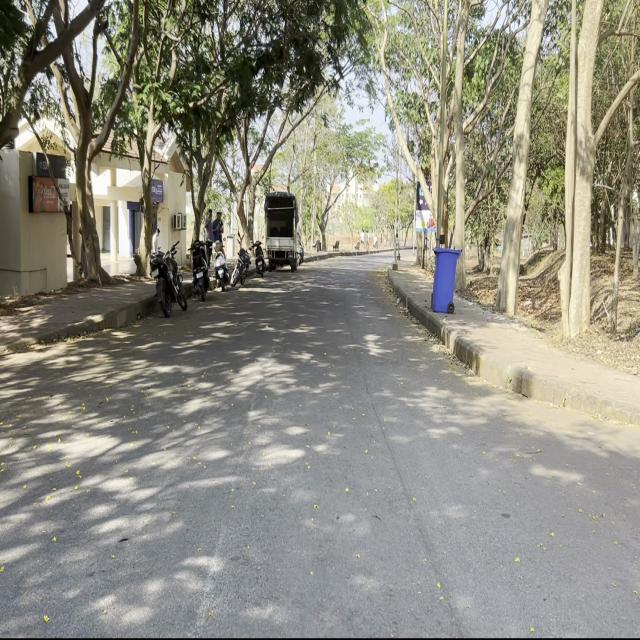Object: (262, 184, 299, 273), (145, 243, 184, 316), (232, 220, 252, 295), (187, 238, 210, 298), (213, 222, 226, 293)
Road: (5, 254, 526, 630)
